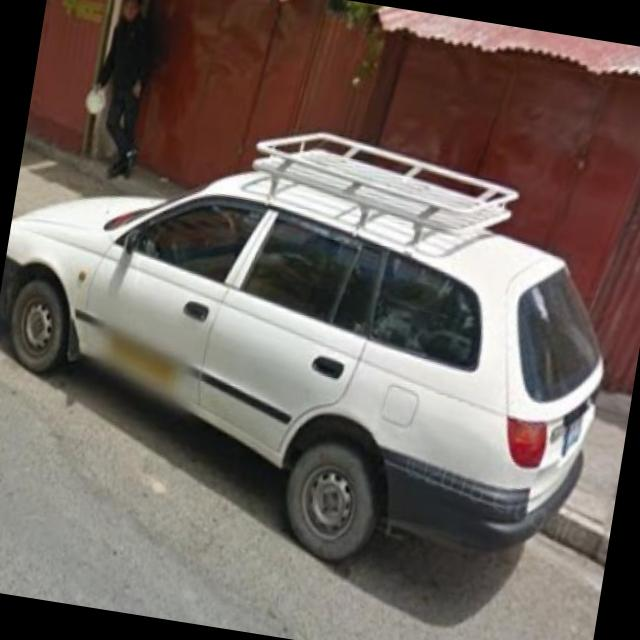car: (0, 80, 628, 611)
